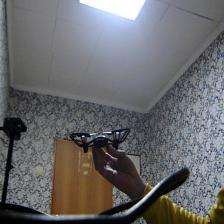drone: (66, 123, 134, 156)
